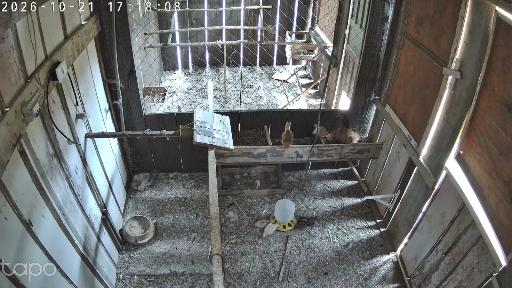frango: (131, 169, 162, 190)
galinha: (336, 112, 364, 144)
pintinho: (281, 121, 294, 151), (263, 223, 279, 238), (298, 216, 319, 226), (313, 125, 329, 138), (255, 220, 269, 228)
